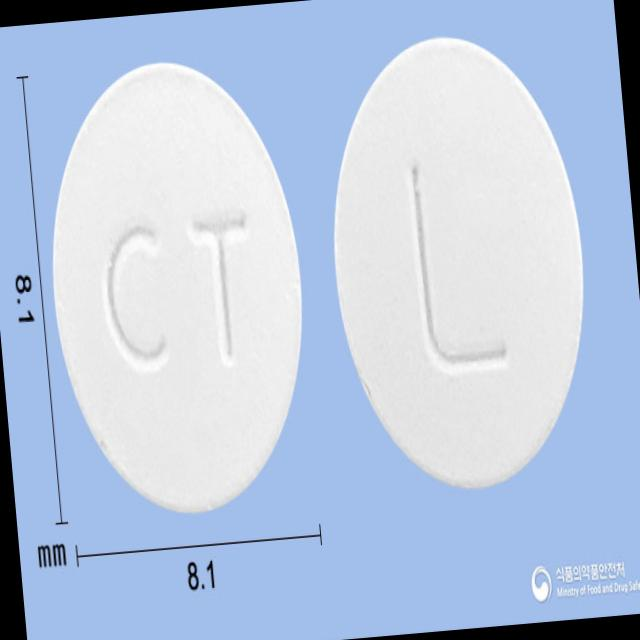Leflocin: (34, 48, 321, 525), (312, 23, 602, 495)
